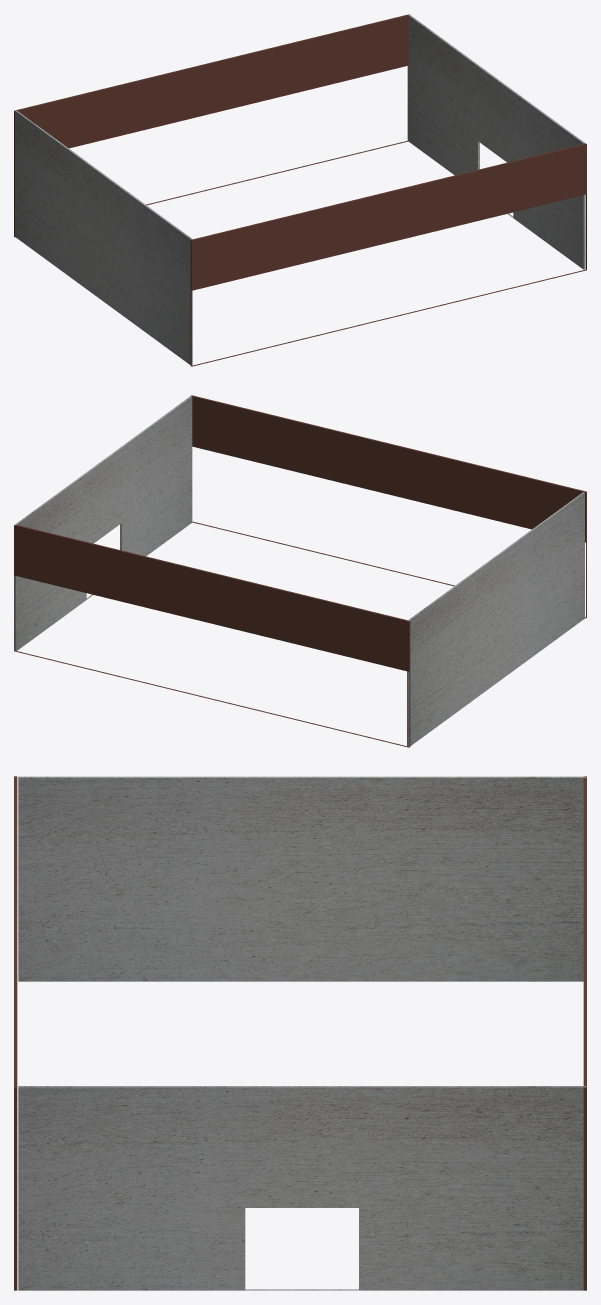
Rendered from muros.obj.
The picture shows the model from 3 angles, top to bottom: view 1: azimuth 30°, elevation 25°; view 2: azimuth 150°, elevation 25°; view 3: azimuth 270°, elevation 25°; orthographic projection. The views are drawn at different scales.
Parts seen in each view (by area): view 1: polySurface27 polySurface44, polySurface27 polySurface51, pasted__polySurface51 pasted__polySurface27 group58, polySurface73 polySurface27; view 2: polySurface27 polySurface44, pasted__polySurface51 pasted__polySurface27 group58, polySurface27 polySurface51, polySurface73 polySurface27; view 3: polySurface27 polySurface44, polySurface73 polySurface27, polySurface27 polySurface51, pasted__polySurface51 pasted__polySurface27 group58.
Boxes of the visible parts, x1,y1,x2,y2 form: polySurface27 polySurface44: (15, 110, 192, 365); polySurface27 polySurface51: (190, 143, 586, 366); pasted__polySurface51 pasted__polySurface27 group58: (14, 14, 408, 237); polySurface73 polySurface27: (407, 14, 585, 269); polySurface27 polySurface44: (407, 492, 584, 747); pasted__polySurface51 pasted__polySurface27 group58: (14, 525, 410, 747); polySurface27 polySurface51: (191, 395, 586, 618); polySurface73 polySurface27: (14, 396, 192, 651); polySurface27 polySurface44: (18, 776, 586, 981); polySurface73 polySurface27: (18, 1086, 586, 1290); polySurface27 polySurface51: (14, 776, 17, 1290); pasted__polySurface51 pasted__polySurface27 group58: (583, 776, 586, 1290).
Size of the model in its own units: 68.54 by 20.89 by 53.33.
